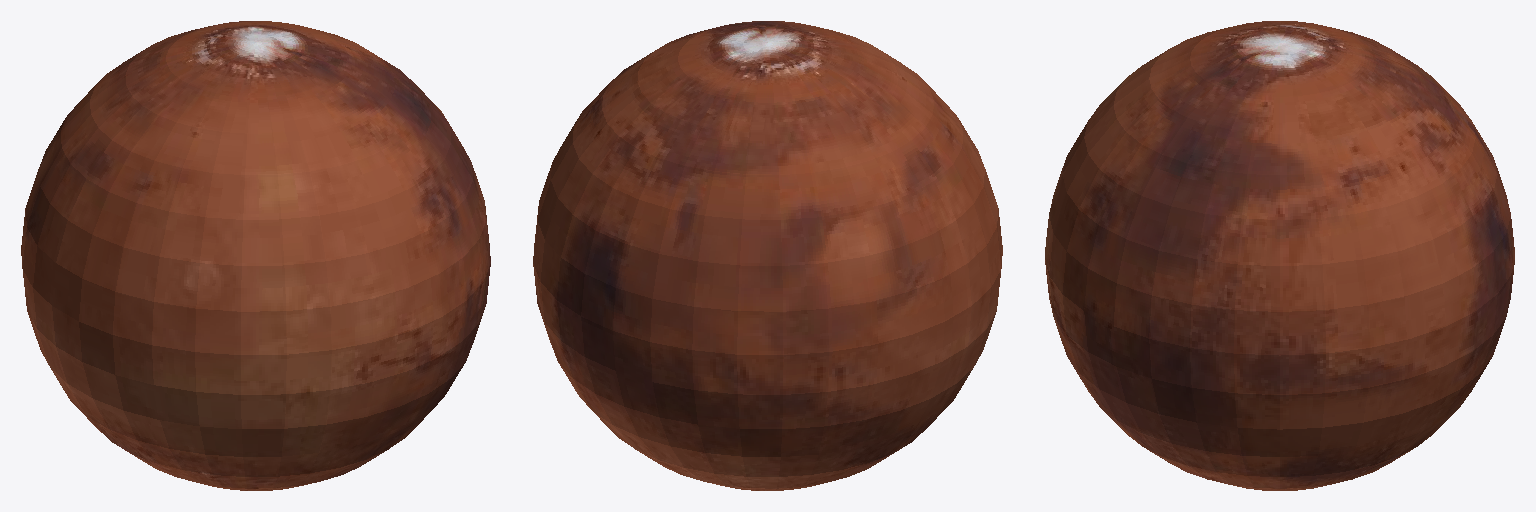
3 renders of one model, left to right at view 1: azimuth 30°, elevation 25°; view 2: azimuth 150°, elevation 25°; view 3: azimuth 270°, elevation 25°, orthographic.
Parts seen in each view (by area): view 1: Sphere; view 2: Sphere; view 3: Sphere.
Boxes of the visible parts, x1=… form: Sphere: x1=21, y1=21, x2=490, y2=490; Sphere: x1=533, y1=21, x2=1002, y2=490; Sphere: x1=1045, y1=21, x2=1514, y2=490.
Size of the model in its own units: 2 by 2 by 2.
1 materials, 1 textured.